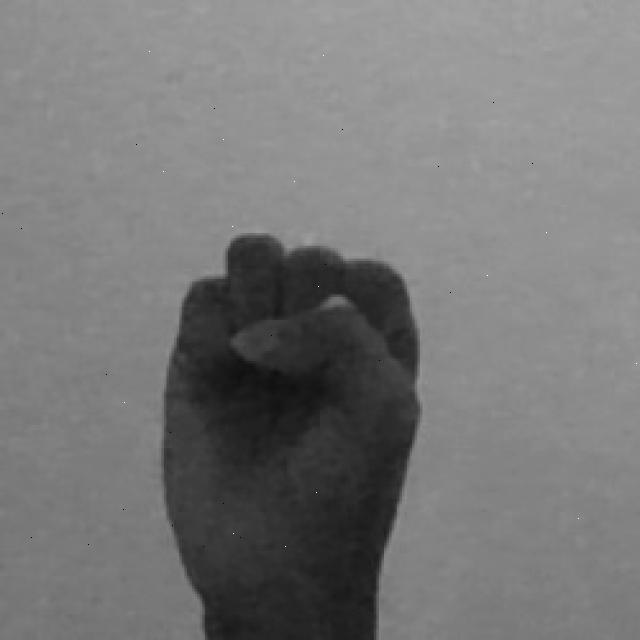S: (158, 228, 427, 640)
